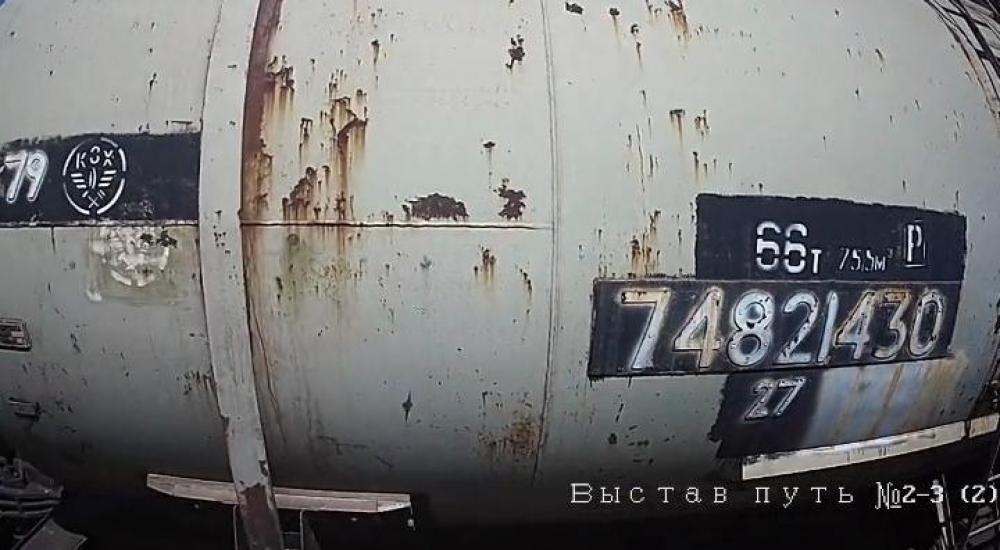Wagon-number: (613, 282, 946, 372)
